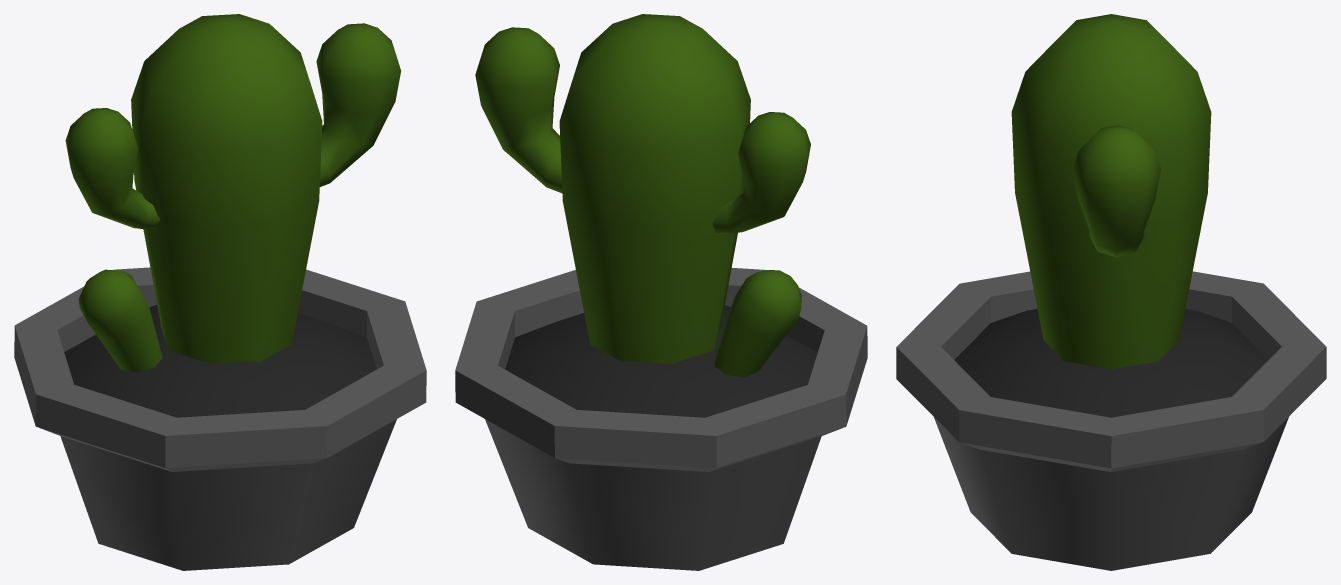
The model's file is Plant_type1.FBX.
3 views of the same model, side by side, from view 1: azimuth 30°, elevation 25°; view 2: azimuth 150°, elevation 25°; view 3: azimuth 270°, elevation 25° (orthographic).
Parts seen in each view (by area): view 1: Plants_in_pots_type2_001; view 2: Plants_in_pots_type2_001; view 3: Plants_in_pots_type2_001.
Part boxes in pixels (x1,y1,x2,y2): Plants_in_pots_type2_001: (14, 14, 426, 570); Plants_in_pots_type2_001: (455, 14, 867, 570); Plants_in_pots_type2_001: (896, 14, 1326, 570).
Bounding box in the file's own units: 14.51 × 14.51 × 18.42.
